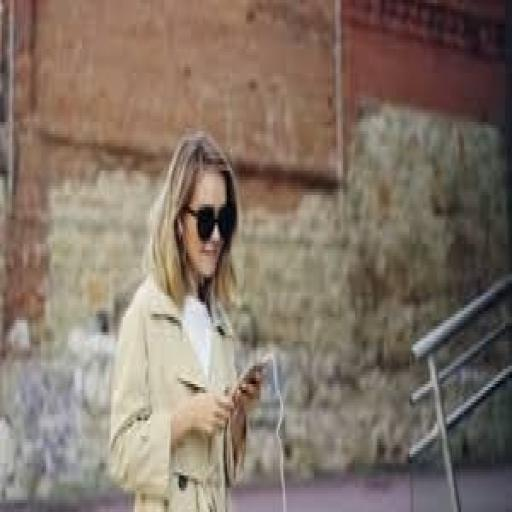texting: (106, 128, 266, 509)
